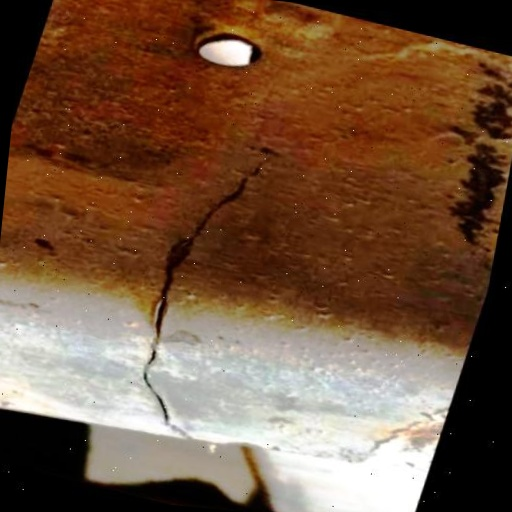crack: (100, 135, 280, 447)
